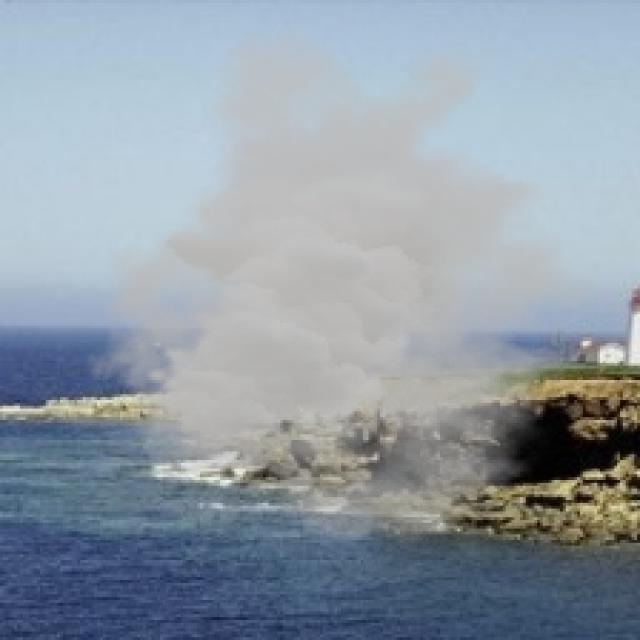smoke: (86, 26, 628, 543)
